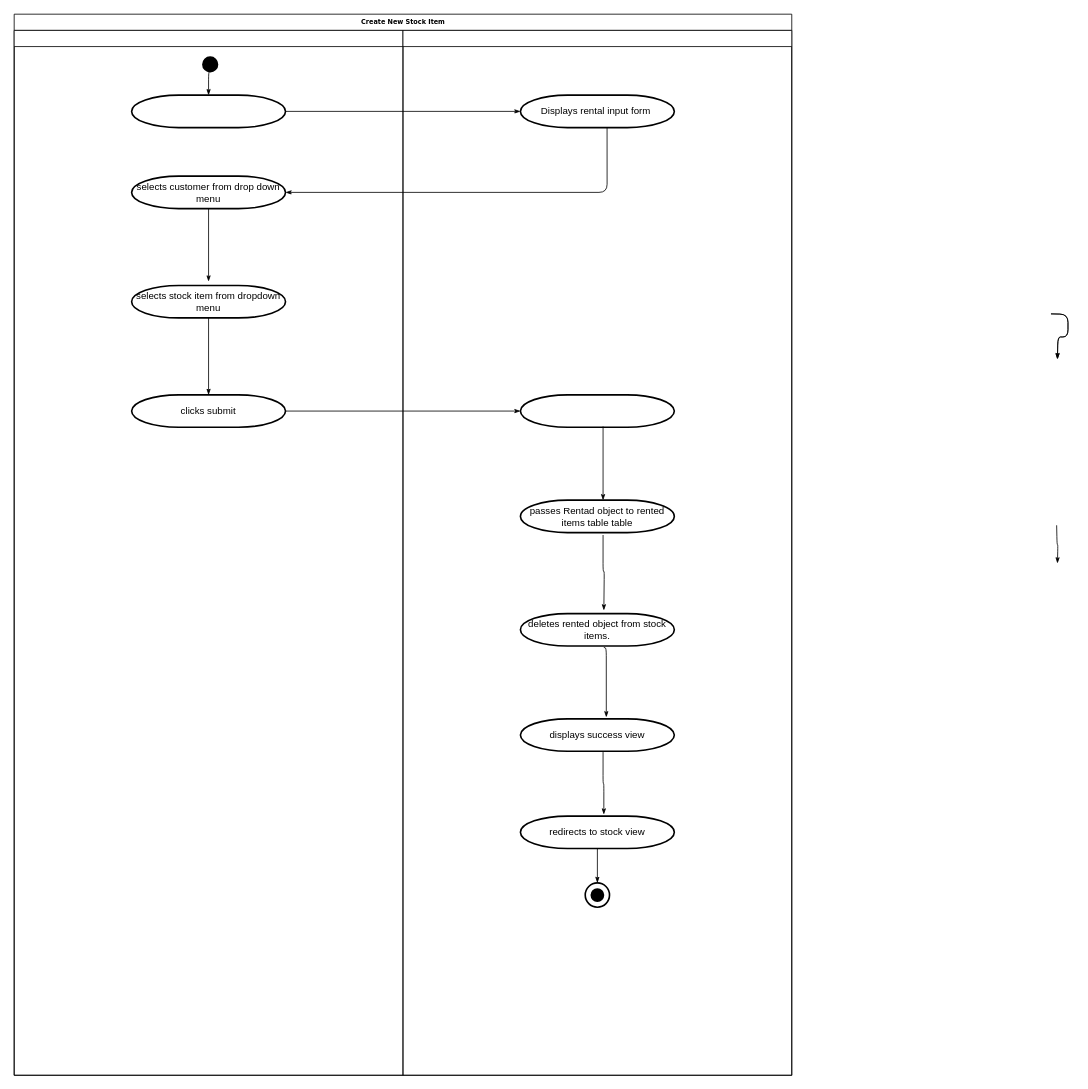
Image size: 1088x1089. Some labels were removed from this diagram. The box of each missing label's shape, as (x1, y1, x2, y2) in pixels:
Clicks create rental from customers view: (130, 94, 286, 128)
Manager: (13, 30, 403, 1075)
passes Rental object to rentals table: (519, 394, 675, 428)
Rental system: (402, 30, 792, 1075)
